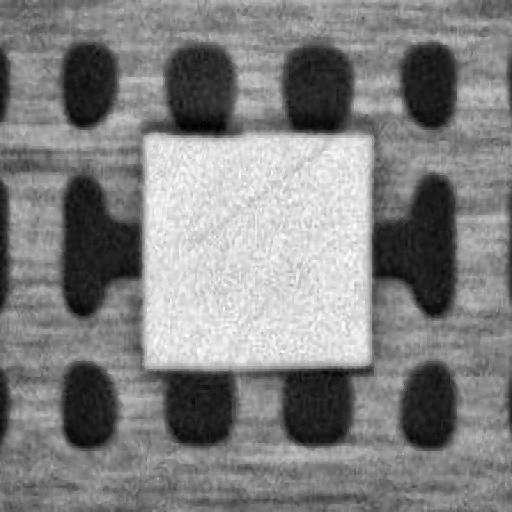DIE_CRACK: (273, 94, 488, 166)
